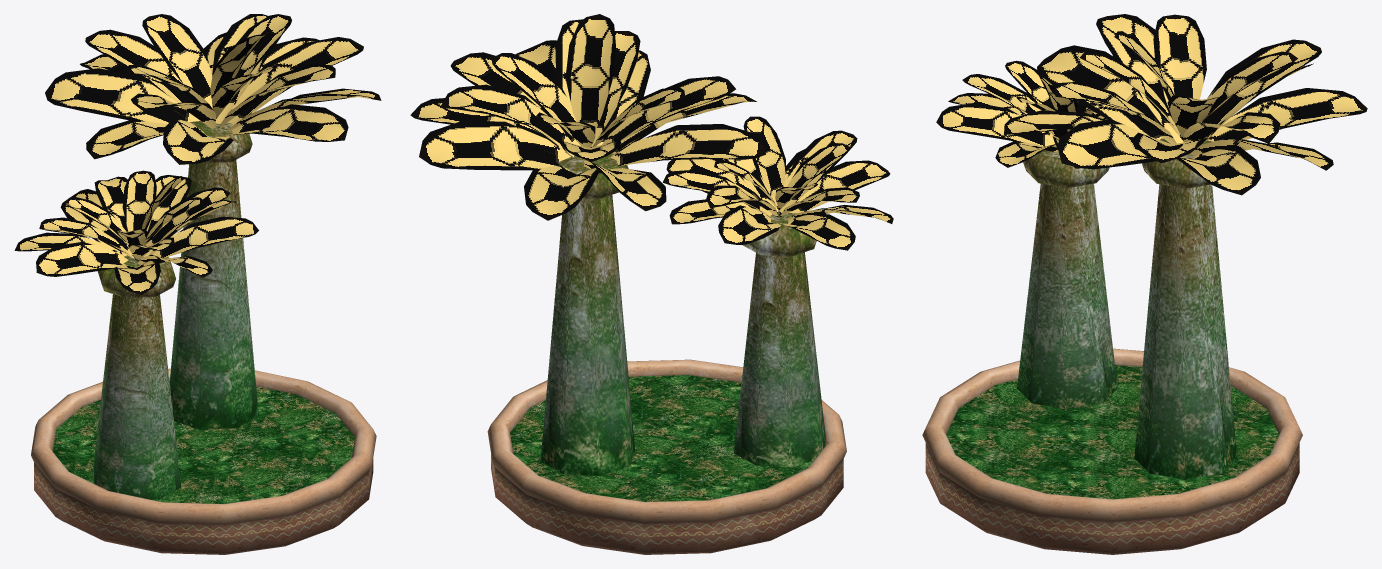
The model's file is pot_large.fbx.
The picture shows the model from 3 angles, left to right: view 1: azimuth 30°, elevation 25°; view 2: azimuth 150°, elevation 25°; view 3: azimuth 270°, elevation 25°; orthographic projection. The views are drawn at different scales.
Parts seen in each view (by area): view 1: JUN_TREE_B_NOCOLI; view 2: JUN_TREE_B_NOCOLI; view 3: JUN_TREE_B_NOCOLI.
Boxes of the visible parts, box(x1,y1,x2,y2) form: JUN_TREE_B_NOCOLI: box(14, 14, 381, 554); JUN_TREE_B_NOCOLI: box(410, 14, 893, 554); JUN_TREE_B_NOCOLI: box(922, 14, 1367, 554).
Size of the model in its own units: 402 by 442 by 374.
